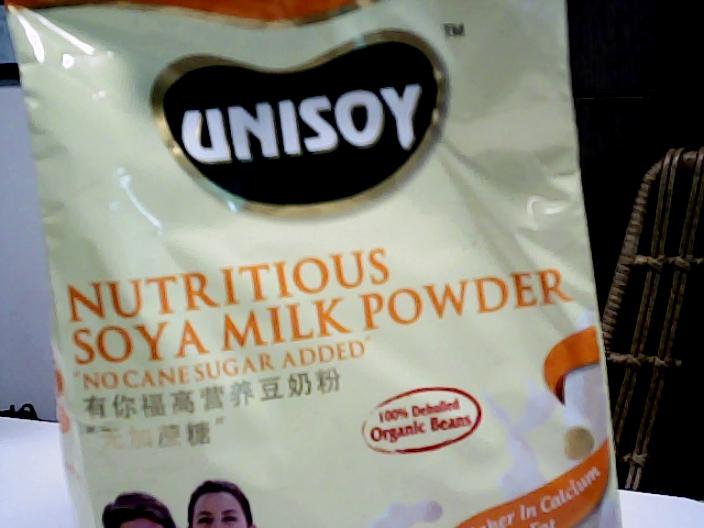Adult_Milk_500-599g_NonHalal_Healthy: (17, 1, 626, 528)
